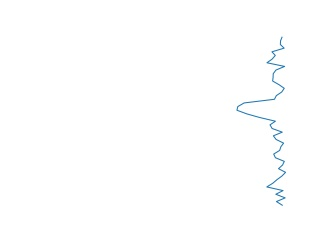interdistributaryEstuary: (234, 38, 293, 208)
